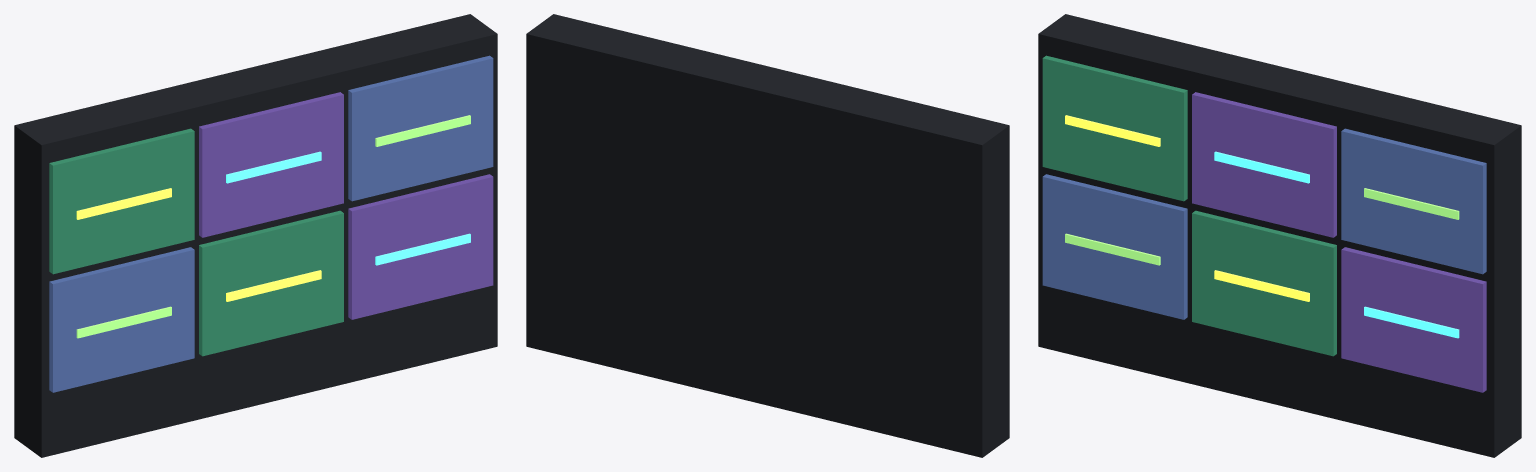
The model's file is noc_wall.glb.
3 views of the same model, side by side, from view 1: azimuth 30°, elevation 25°; view 2: azimuth 150°, elevation 25°; view 3: azimuth 330°, elevation 25° (orthographic).
Parts seen in each view (by area): view 1: noc_wall_mesh; view 2: noc_wall_mesh; view 3: noc_wall_mesh.
Part boxes in pixels (x1,y1,x2,y2): noc_wall_mesh: (14, 14, 497, 457); noc_wall_mesh: (526, 14, 1009, 457); noc_wall_mesh: (1038, 14, 1521, 457).
Size of the model in its own units: 2.9 by 1.9 by 0.3525.
